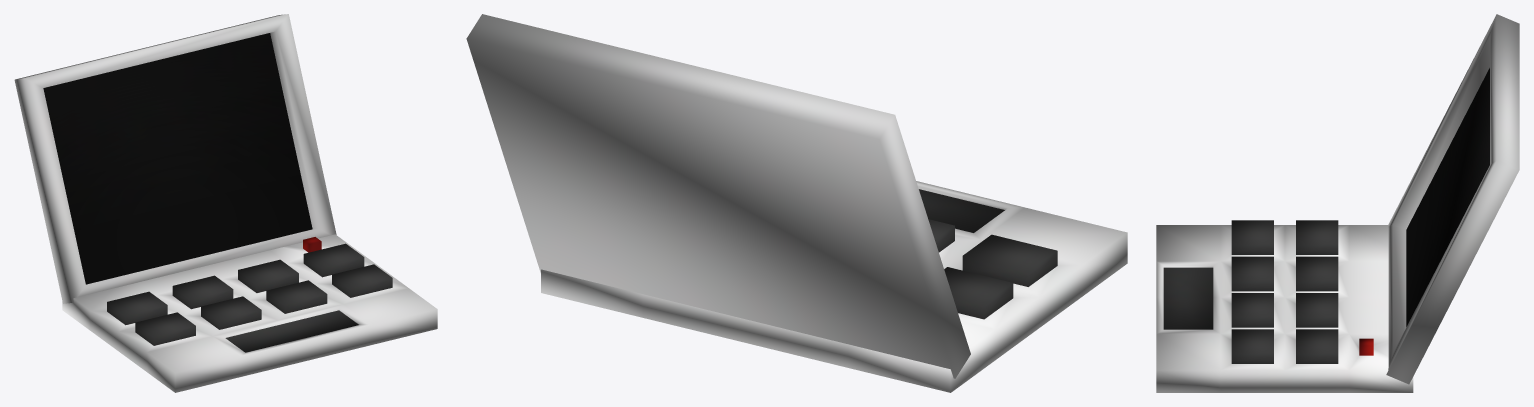
The model's file is Computador.fbx.
3 views of the same model, side by side, from view 1: azimuth 30°, elevation 25°; view 2: azimuth 150°, elevation 25°; view 3: azimuth 270°, elevation 25° (orthographic). The views are drawn at different scales.
Visible parts, largest first — view 1: Computador; view 2: Computador; view 3: Computador.
Part boxes in pixels (x1,y1,x2,y2): Computador: (14,14,437,392); Computador: (466,14,1127,392); Computador: (1156,14,1519,392).
Size of the model in its own units: 53.1 by 39.38 by 55.61.
1 material, 1 textured.
